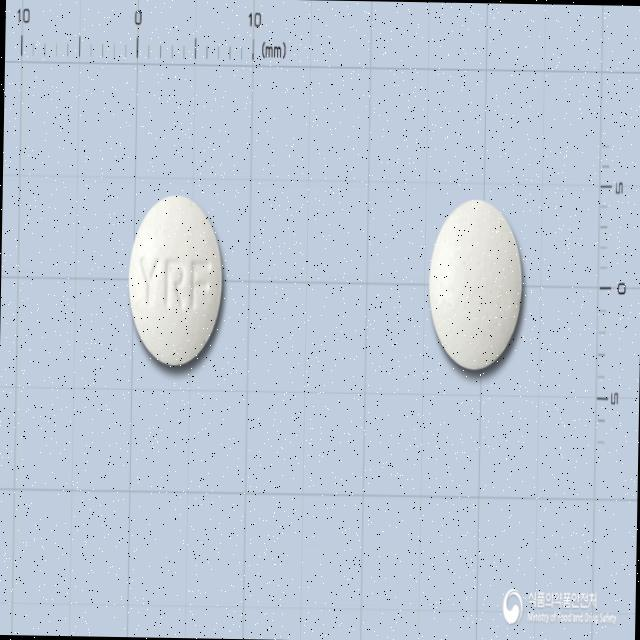Leprosin: (126, 194, 225, 369), (427, 198, 524, 370)
